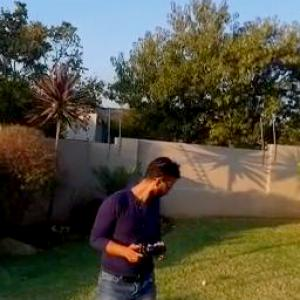follow: (84, 152, 184, 299)
